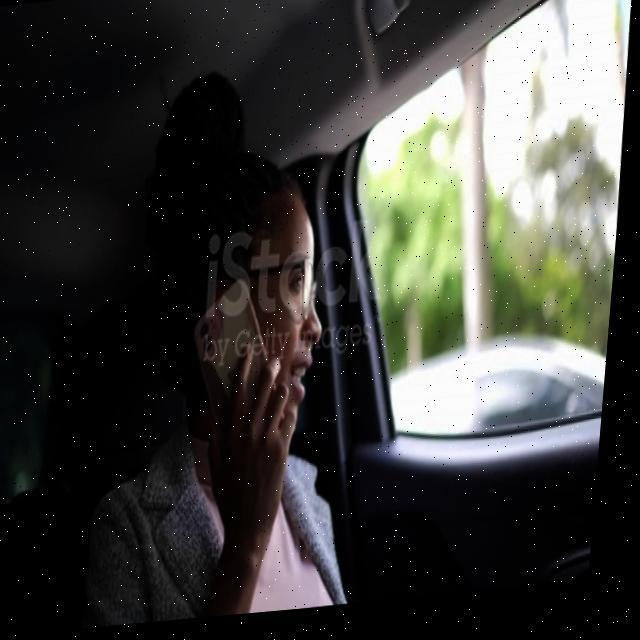PhoneCall: (190, 278, 298, 477)
